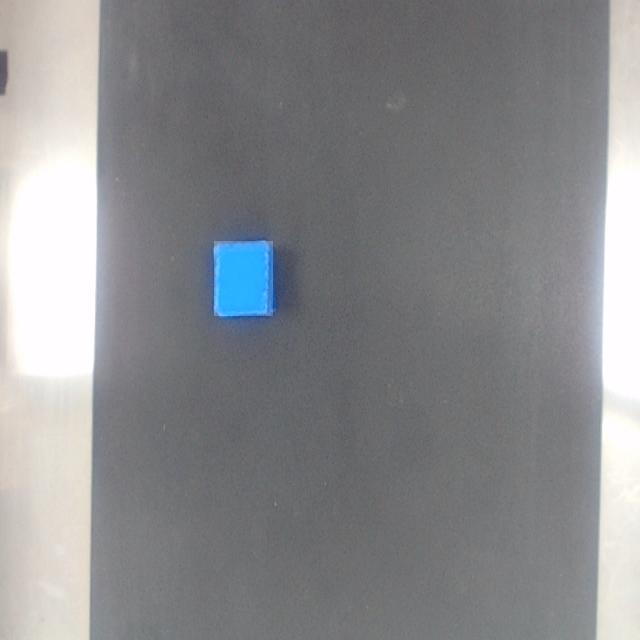Azul: (214, 242, 273, 316)
